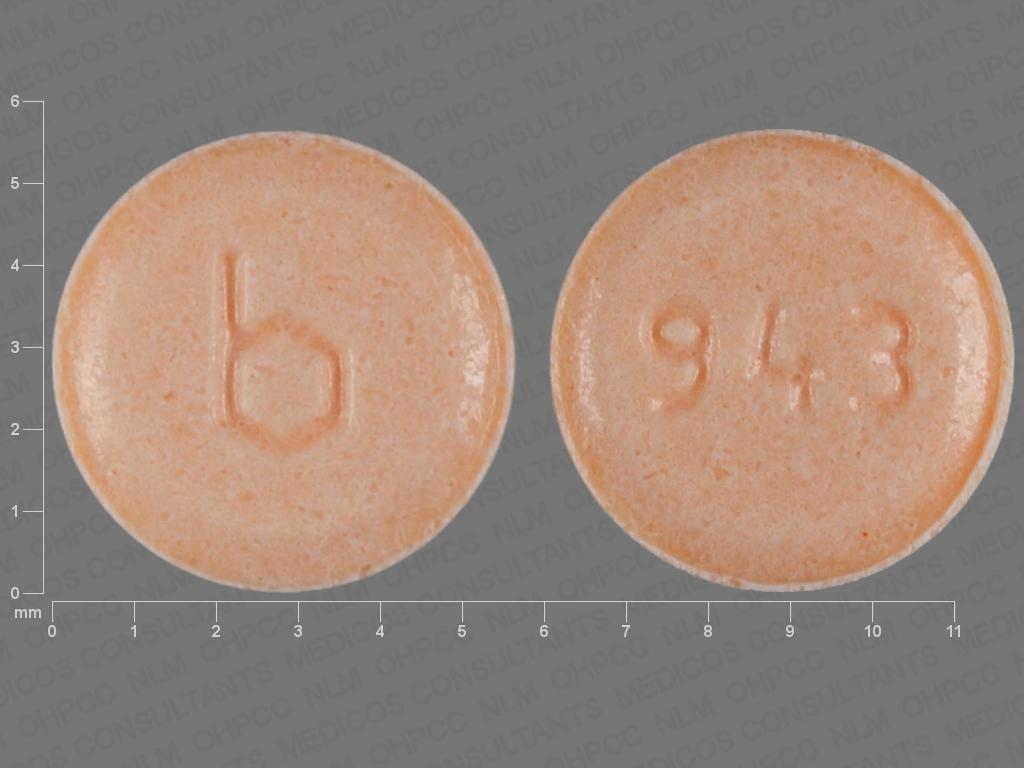Pill: (543, 117, 1019, 599), (49, 117, 523, 598)
